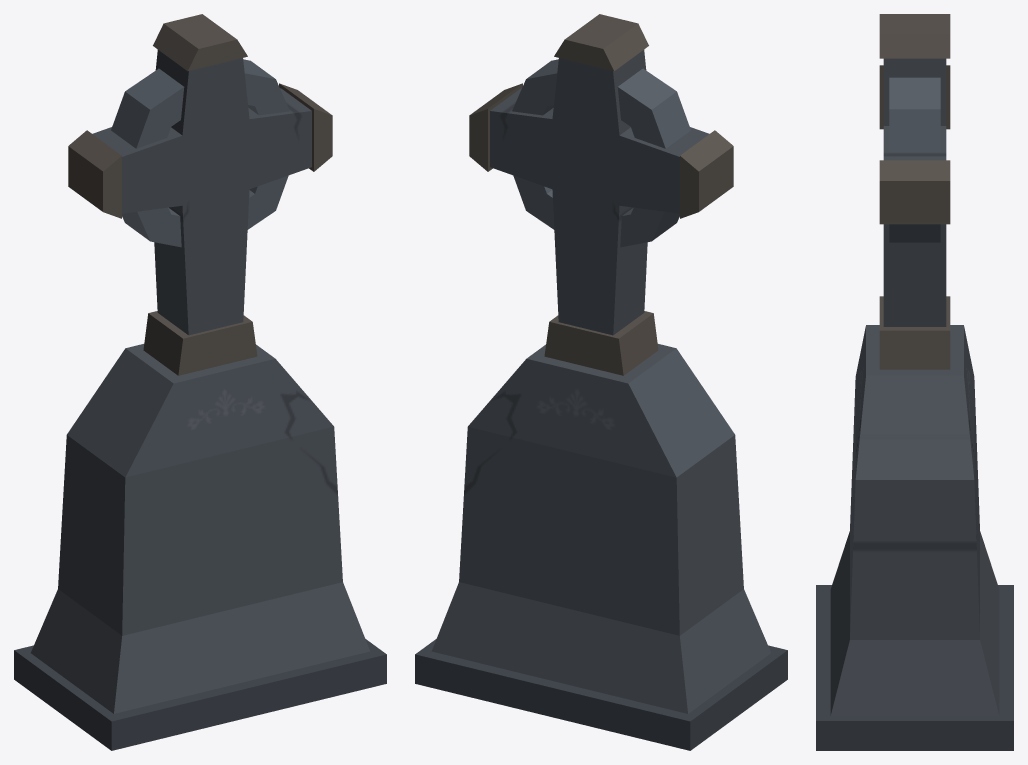
File: Tombstone 04.fbx
3 views of the same model, side by side, from view 1: azimuth 30°, elevation 25°; view 2: azimuth 150°, elevation 25°; view 3: azimuth 270°, elevation 25° (orthographic).
Parts seen in each view (by area): view 1: Tombstone_04; view 2: Tombstone_04; view 3: Tombstone_04.
Boxes of the visible parts, left/top/right/bottom form: Tombstone_04: left=14, top=14, right=386, bottom=750; Tombstone_04: left=415, top=14, right=787, bottom=750; Tombstone_04: left=816, top=14, right=1013, bottom=750.
Size of the model in its own units: 71.61 by 162 by 43.93.
